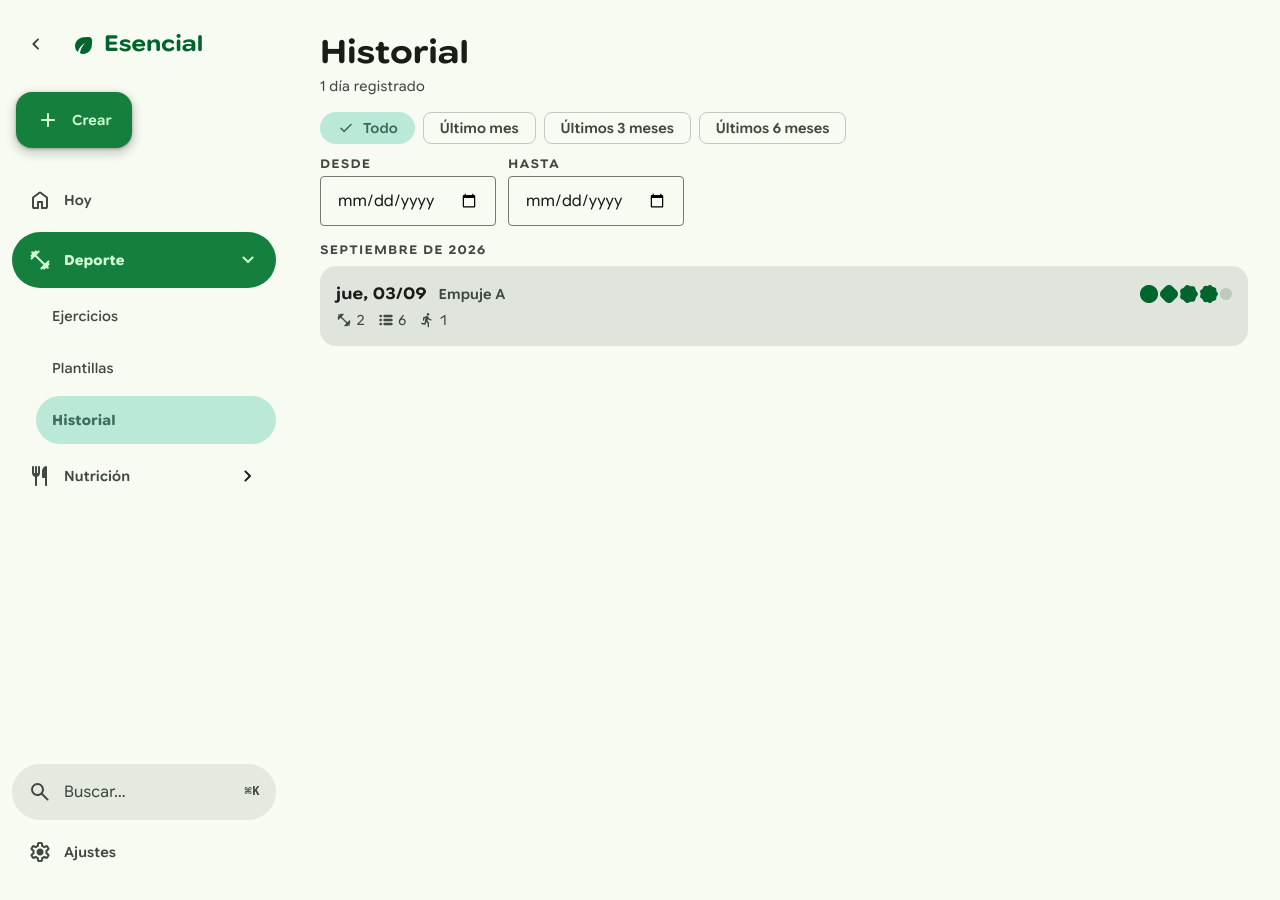
Test: /historial › sin días en el rango lo dice y ofrece quitar el filtro
Check: the link "jue, 03/09 Empuje A 2 6 1" is shown, box [320,266,1248,346]
In the date field named "Desde": (408, 201) [320,176,496,226], type "2020-01-01"
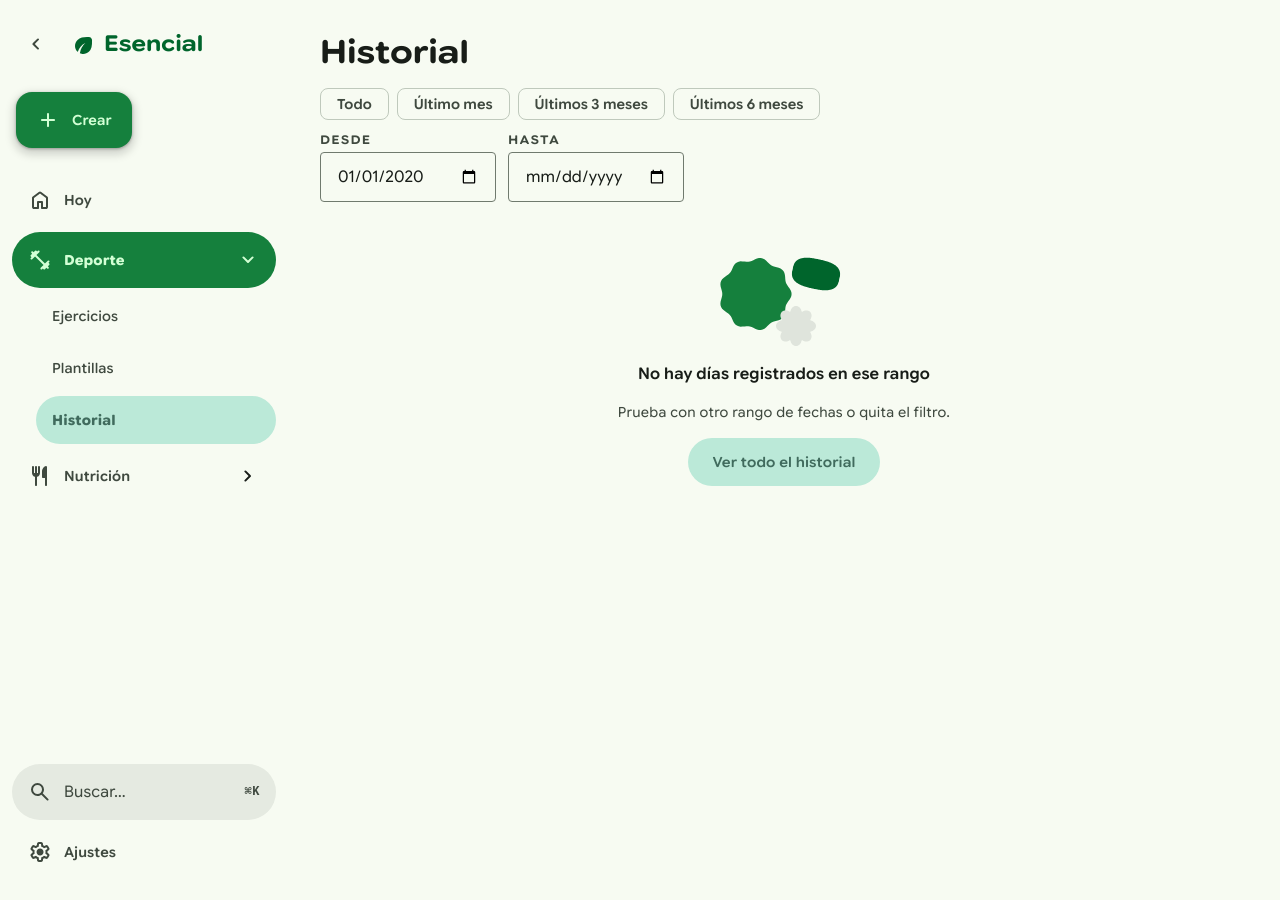
Check: the text "No hay días registrados en ese rango" is shown, box [638,362,930,386]
Click the button "Ver todo el historial": (784, 462) [688,438,880,486]
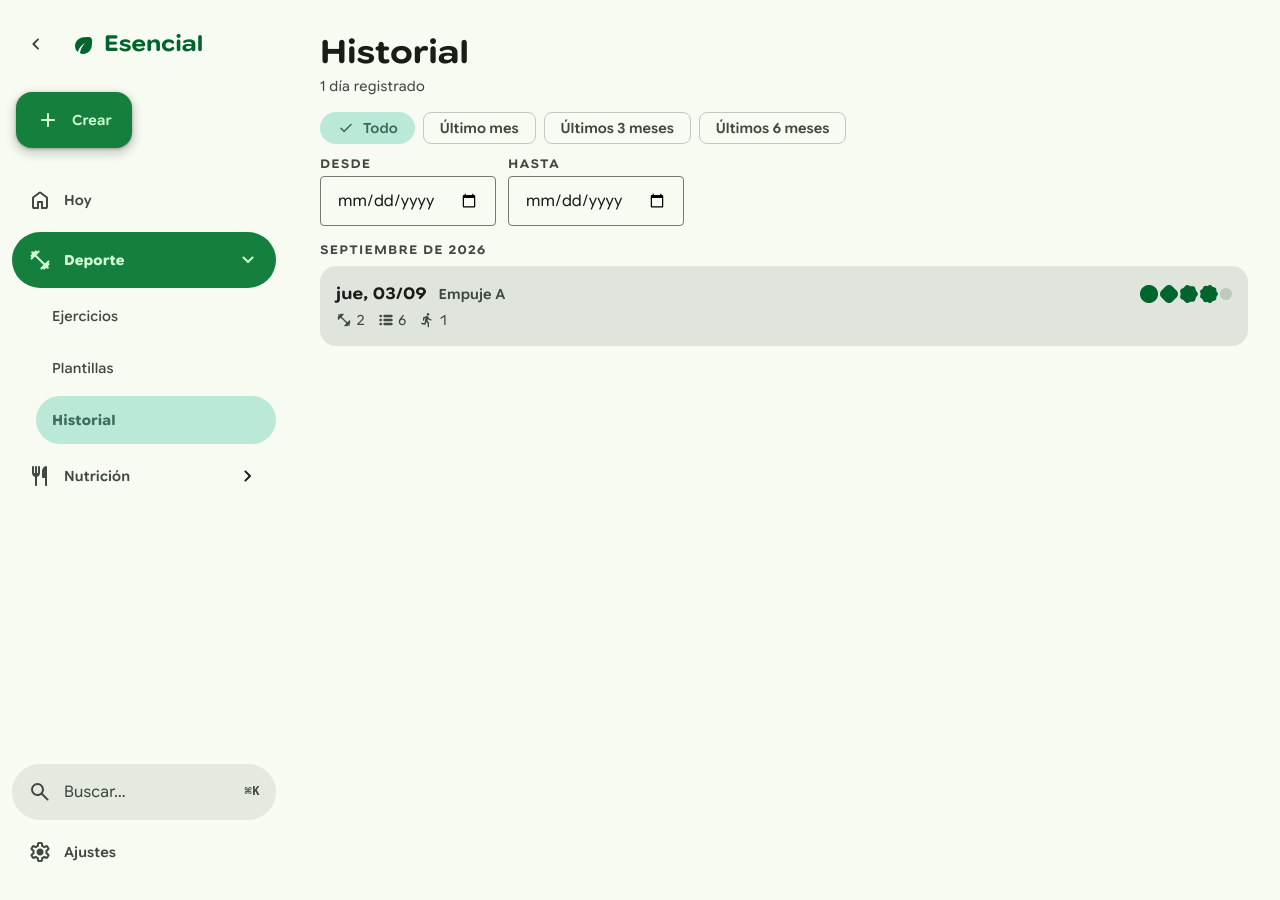
Check: the link "jue, 03/09 Empuje A 2 6 1" is shown, box [320,266,1248,346]
